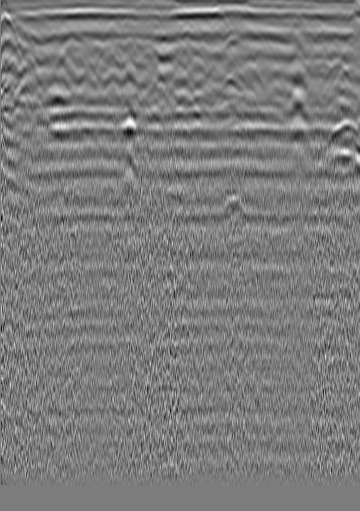가스: (219, 187, 254, 224)
상수: (285, 22, 308, 50)
오수: (0, 12, 23, 41)
우수: (147, 23, 173, 48)
